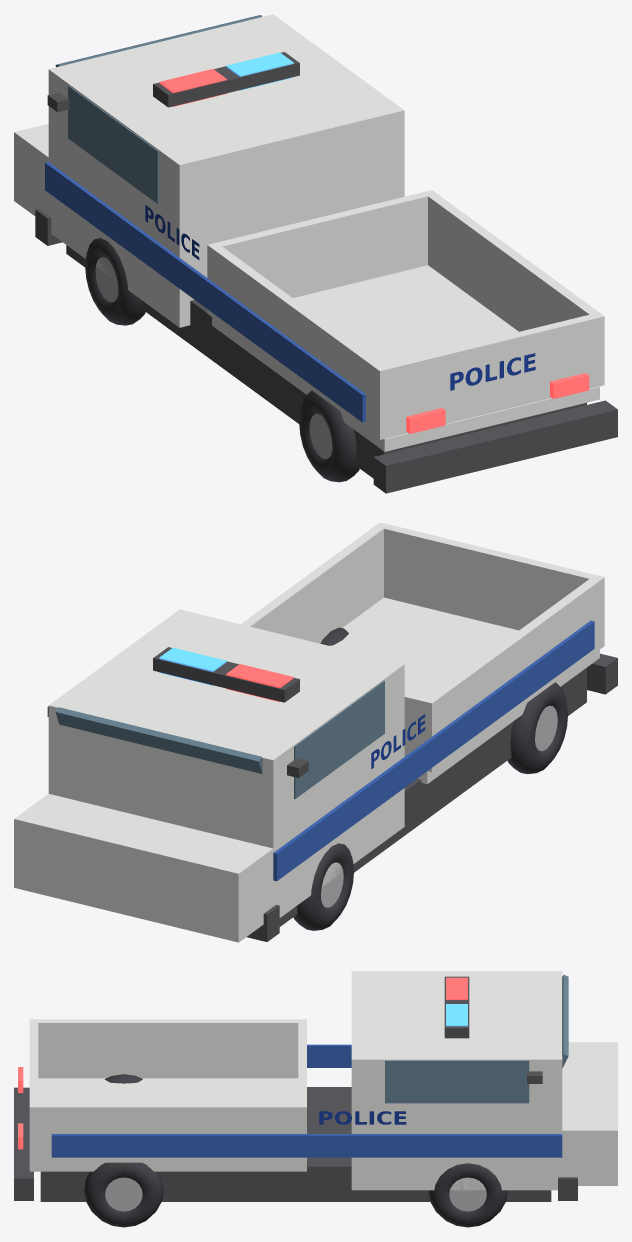
Rendered from police_pickup.glb.
The picture shows the model from 3 angles, top to bottom: view 1: azimuth 30°, elevation 25°; view 2: azimuth 150°, elevation 25°; view 3: azimuth 270°, elevation 25°; orthographic projection. The views are drawn at different scales.
Visible parts, largest first — view 1: police_pickup_body, police_lightbar, police_wheel_RL, police_wheel_FL; view 2: police_pickup_body, police_lightbar, police_wheel_RL, police_wheel_FL; view 3: police_pickup_body, police_wheel_RR, police_wheel_FR, police_lightbar.
Part boxes in pixels (x1,y1,x2,y2): police_pickup_body: [14, 14, 617, 493]; police_lightbar: [153, 52, 299, 107]; police_wheel_RL: [299, 390, 359, 482]; police_wheel_FL: [85, 238, 145, 325]; police_pickup_body: [14, 522, 617, 942]; police_lightbar: [153, 647, 299, 702]; police_wheel_RL: [507, 682, 567, 774]; police_wheel_FL: [293, 843, 353, 930]; police_pickup_body: [14, 971, 617, 1201]; police_wheel_RR: [84, 1162, 163, 1227]; police_wheel_FR: [428, 1163, 507, 1227]; police_lightbar: [444, 976, 469, 1038].
Bounding box in the file's own units: 2.1 × 1.84 × 5.44.
Materials: 17 (3 with a texture image).
